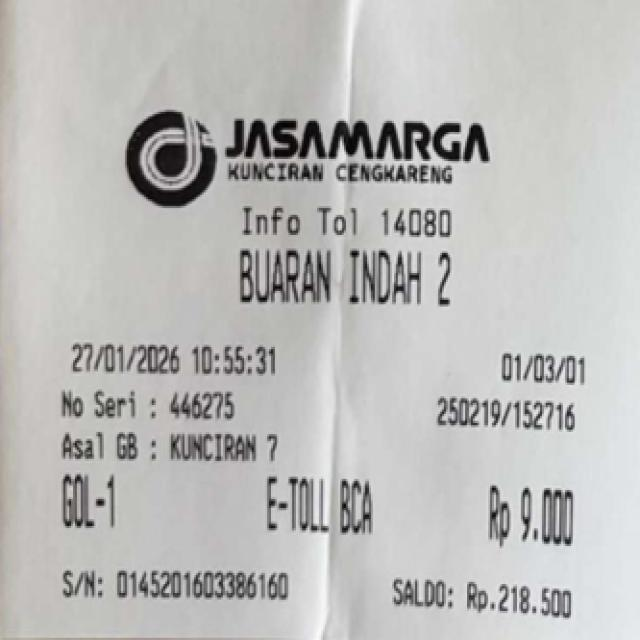date: (66, 336, 303, 384)
store: (205, 105, 510, 189)
total: (462, 470, 587, 558)
